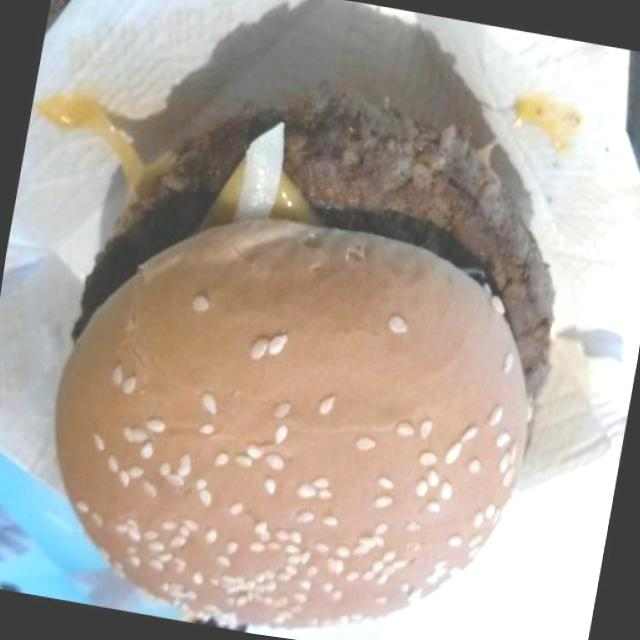Hamburger: (7, 42, 605, 640)
